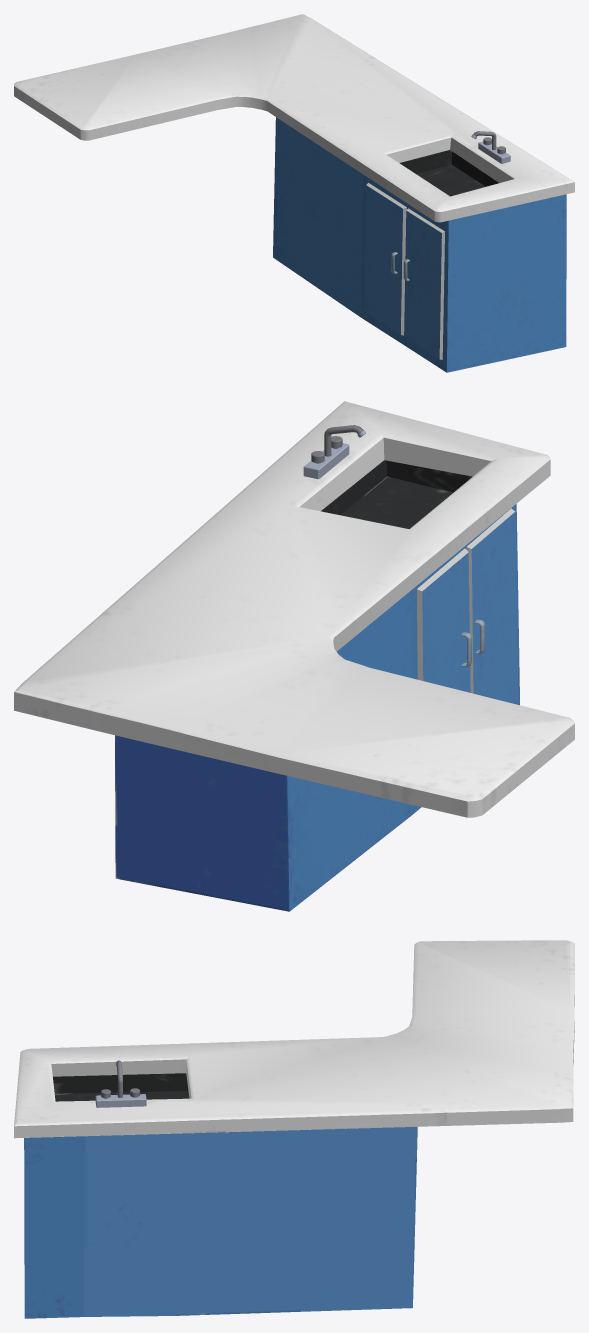
Rendered from jobRoom_Counter.fbx.
The picture shows the model from 3 angles, top to bottom: view 1: azimuth 30°, elevation 25°; view 2: azimuth 150°, elevation 25°; view 3: azimuth 270°, elevation 25°; orthographic projection. The views are drawn at different scales.
Parts seen in each view (by area): view 1: JobRoom_Counter.001; view 2: JobRoom_Counter.001; view 3: JobRoom_Counter.001.
Part boxes in pixels (left/top/right/bottom): JobRoom_Counter.001: left=14, top=14, right=574, bottom=372; JobRoom_Counter.001: left=14, top=401, right=574, bottom=911; JobRoom_Counter.001: left=14, top=940, right=574, bottom=1318.
Bounding box in the file's own units: 6.94 × 4.09 × 8.94.
